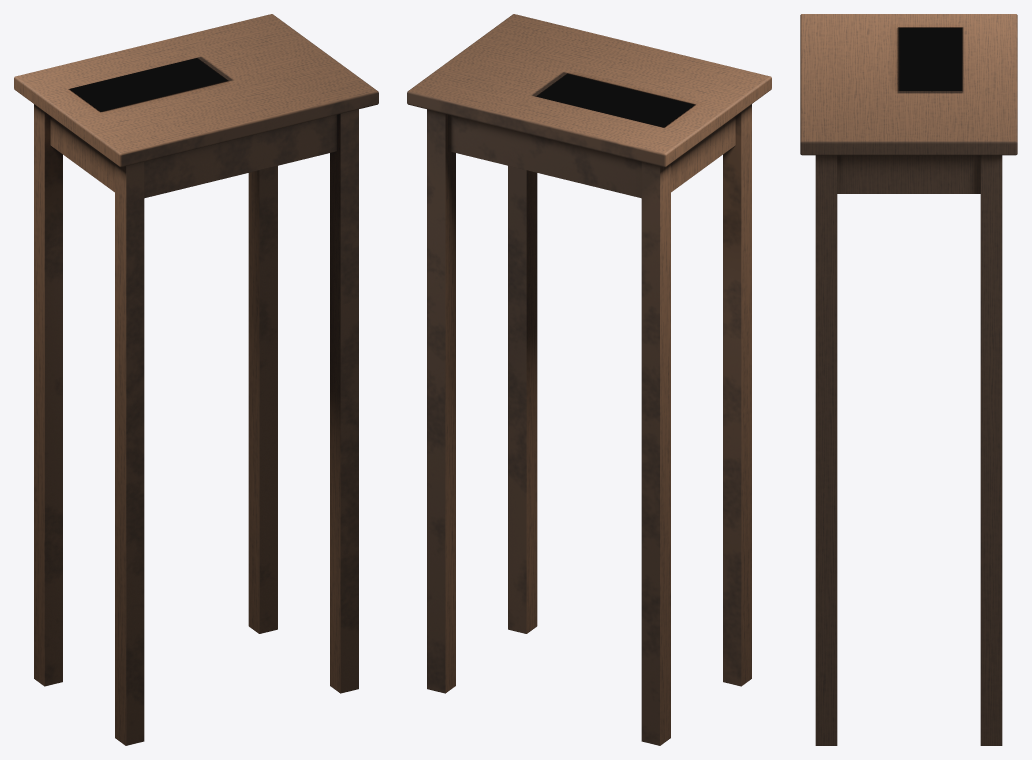
Rendered from 814_coins.glb.
3 views of the same model, side by side, from view 1: azimuth 30°, elevation 25°; view 2: azimuth 150°, elevation 25°; view 3: azimuth 270°, elevation 25° (orthographic).
Visible parts, largest first — view 1: Table; view 2: Table; view 3: Table.
Part boxes in pixels (x1,y1,x2,y2): Table: (14,14,378,745); Table: (407,14,771,745); Table: (800,14,1017,745).
Size of what is drawn, in the model's own units: 1.4 by 3.1 by 1.
1 material, 1 textured.
